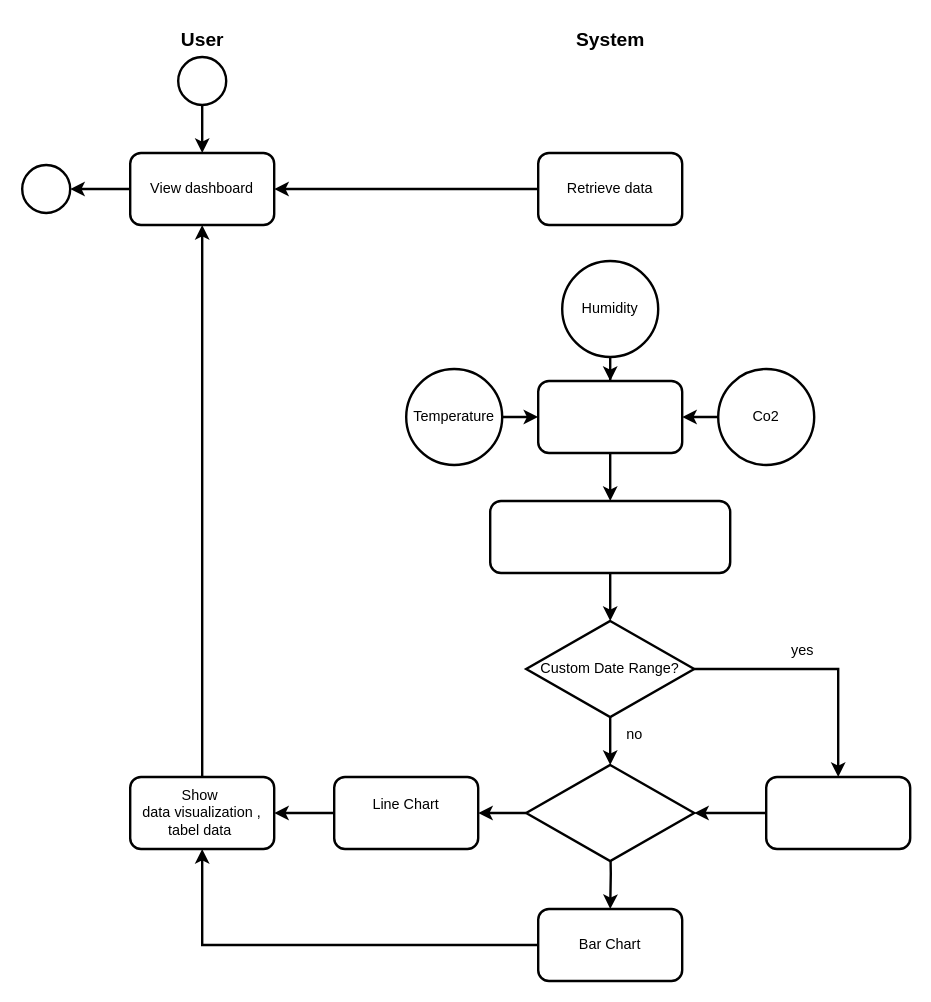
The diagram is 931 pixels wide and 1002 high, and some of its shapes have lost their labels. Each missing label, with the box of its shape:
Display Type ?: (524, 763, 695, 862)
Filter by Custom Date: (764, 775, 911, 850)
Filter hours, day, week, month and sensor: (488, 499, 731, 574)
Record data into influxdb: (536, 379, 683, 454)
